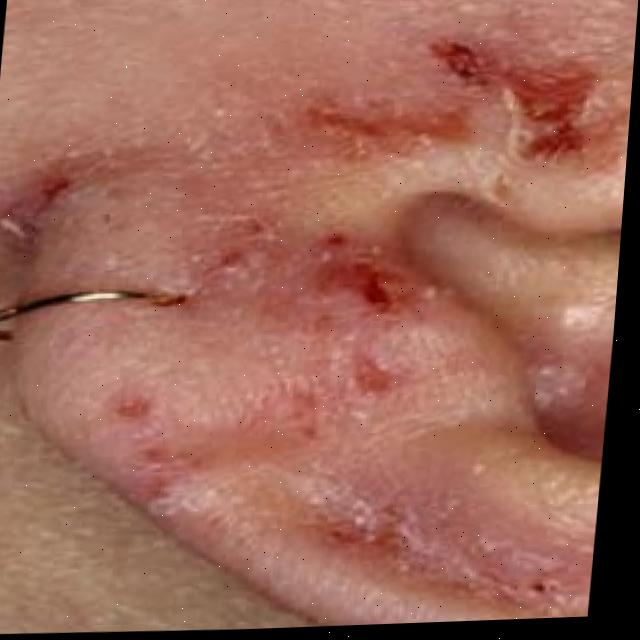Eczema: (0, 29, 636, 639)
